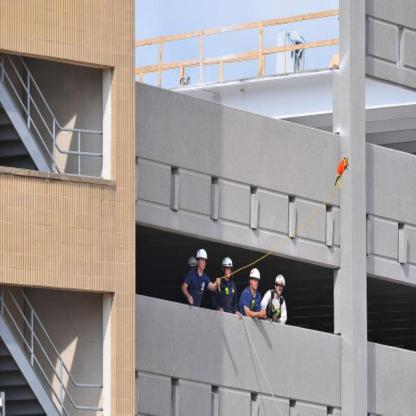face: (252, 279, 259, 290), (277, 284, 284, 295), (200, 259, 206, 270), (225, 269, 232, 278)
